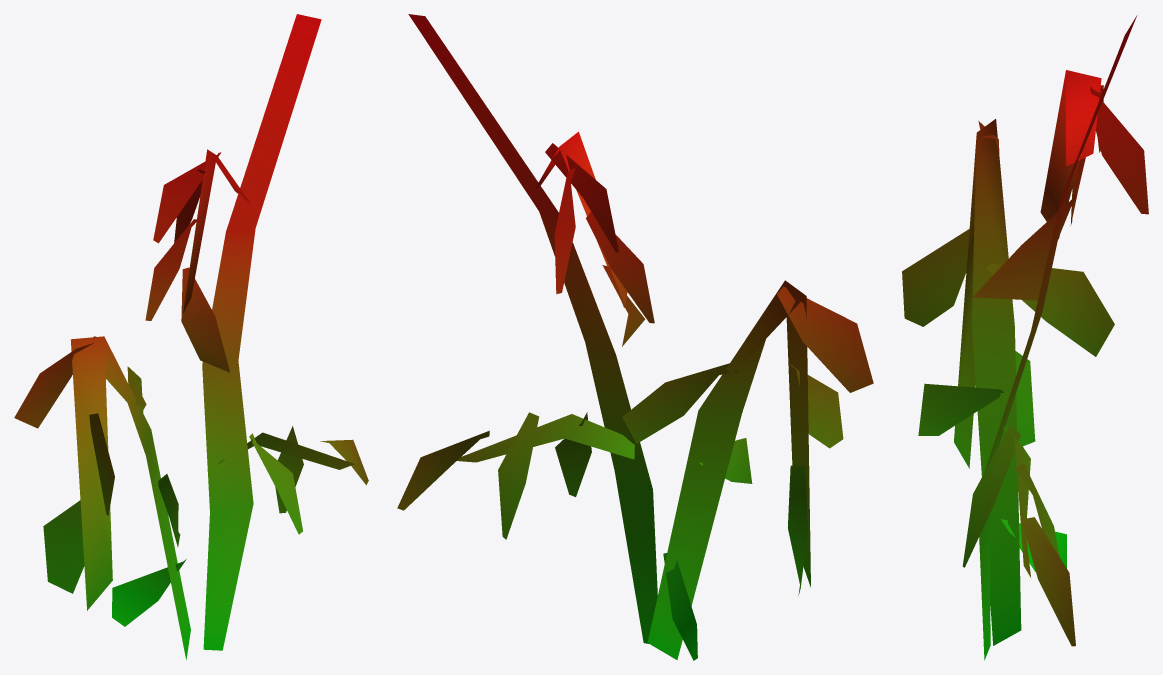
The model's file is Var5_LOD2.fbx.
3 views of the same model, side by side, from view 1: azimuth 30°, elevation 25°; view 2: azimuth 150°, elevation 25°; view 3: azimuth 270°, elevation 25° (orthographic). The views are drawn at different scales.
Parts seen in each view (by area): view 1: _bf3d_Var5_LOD2; view 2: _bf3d_Var5_LOD2; view 3: _bf3d_Var5_LOD2.
Boxes of the visible parts, bbox=[...] form: _bf3d_Var5_LOD2: bbox=[14, 14, 368, 659]; _bf3d_Var5_LOD2: bbox=[397, 14, 873, 660]; _bf3d_Var5_LOD2: bbox=[902, 15, 1148, 660].
Bounding box in the file's own units: 31.64 × 44.25 × 13.42.
